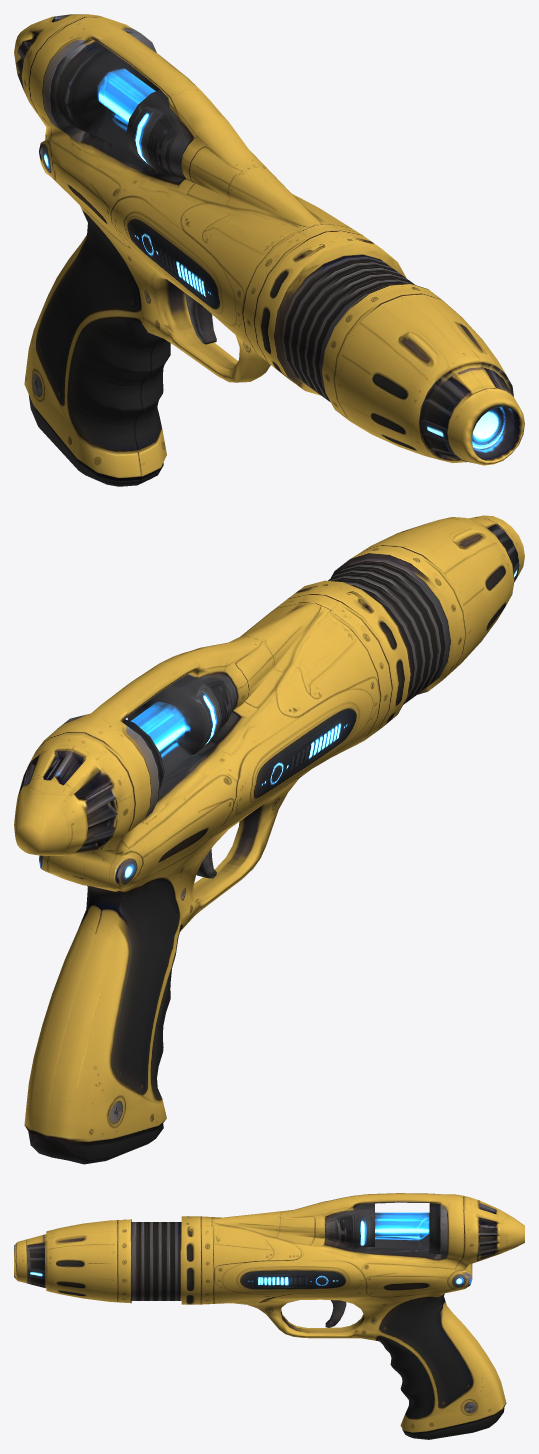
Rendered from gun.glb.
3 renders of one model, top to bottom at view 1: azimuth 30°, elevation 25°; view 2: azimuth 150°, elevation 25°; view 3: azimuth 270°, elevation 25°, orthographic. The views are drawn at different scales.
Visible parts, largest first — view 1: Gun; view 2: Gun; view 3: Gun.
Part boxes in pixels (x1=…): Gun: x1=14, y1=14, x2=524, y2=486; Gun: x1=14, y1=515, x2=524, y2=1164; Gun: x1=14, y1=1193, x2=524, y2=1439.
Bounding box in the file's own units: 0.0682 × 0.2061 × 0.3998.
Materials: 1 (1 with a texture image).
